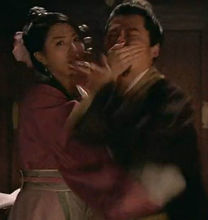face: (105, 13, 148, 66), (51, 27, 83, 75)
